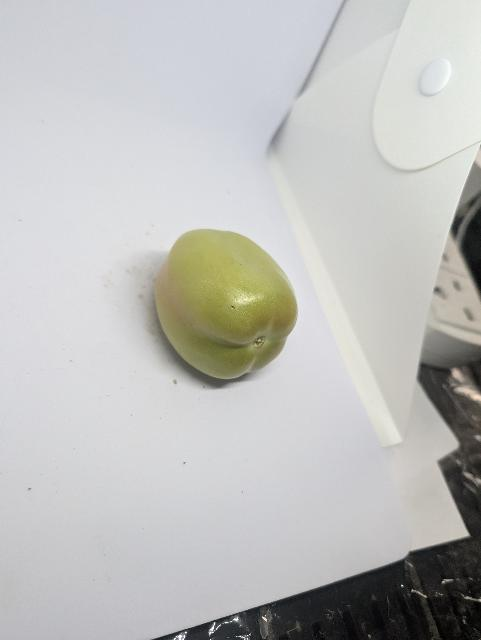green: (152, 225, 302, 382)
